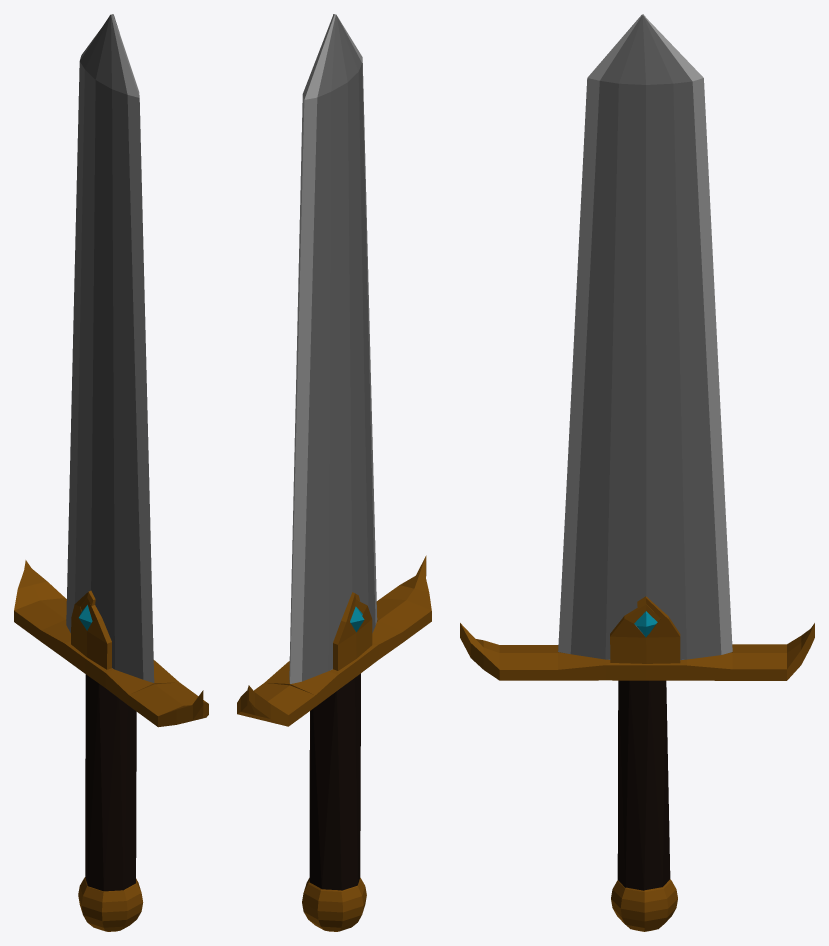
The model's file is sword.obj.
3 renders of one model, left to right at view 1: azimuth 30°, elevation 25°; view 2: azimuth 150°, elevation 25°; view 3: azimuth 270°, elevation 25°, orthographic.
Visible parts, largest first — view 1: Hilt_Cube.002; view 2: Hilt_Cube.002; view 3: Hilt_Cube.002.
Part boxes in pixels (left/top/right/bottom): Hilt_Cube.002: left=14, top=14, right=208, bottom=931; Hilt_Cube.002: left=237, top=14, right=431, bottom=931; Hilt_Cube.002: left=460, top=14, right=814, bottom=931.
Bounding box in the file's own units: 10.03 × 139 × 48.97.
